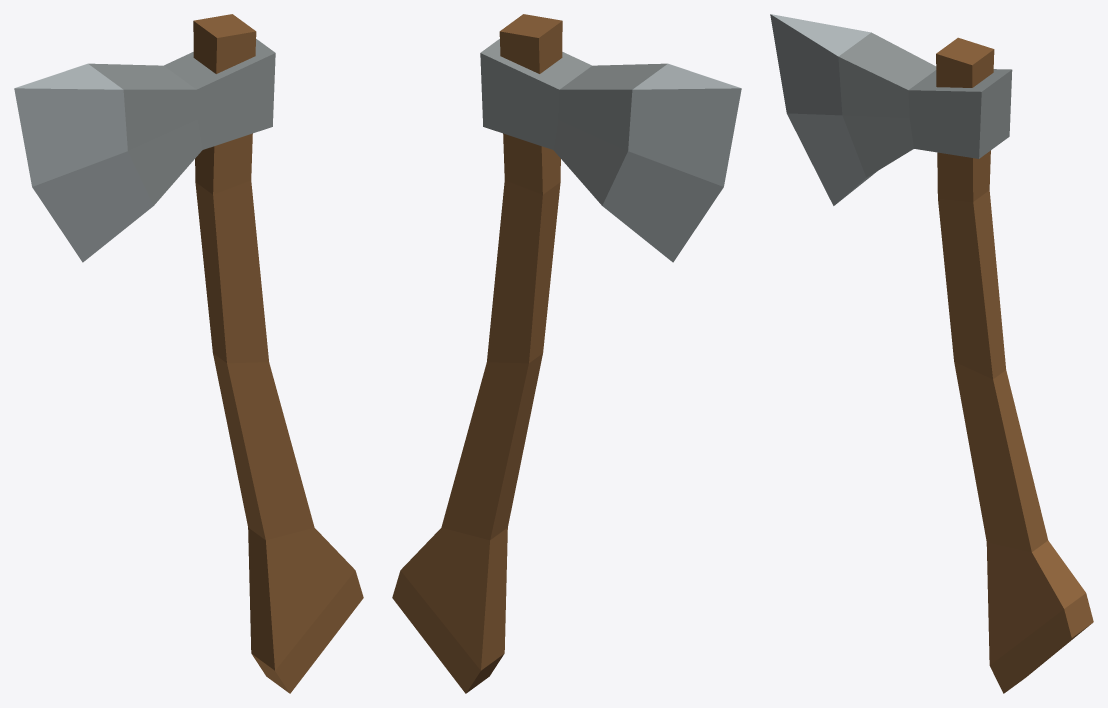
The model's file is Axe_1_Brown.fbx.
The picture shows the model from 3 angles, left to right: view 1: azimuth 30°, elevation 25°; view 2: azimuth 150°, elevation 25°; view 3: azimuth 330°, elevation 25°; orthographic projection. The views are drawn at different scales.
Parts seen in each view (by area): view 1: Axe_1_Brown_Part_3, Axe_1_Brown_Part_2, Axe_1_Brown_Part_1; view 2: Axe_1_Brown_Part_3, Axe_1_Brown_Part_2, Axe_1_Brown_Part_1; view 3: Axe_1_Brown_Part_3, Axe_1_Brown_Part_1, Axe_1_Brown_Part_2.
Boxes of the visible parts, bbox=[...] form: Axe_1_Brown_Part_3: bbox=[193, 14, 363, 693]; Axe_1_Brown_Part_2: bbox=[14, 63, 153, 262]; Axe_1_Brown_Part_1: bbox=[88, 39, 275, 205]; Axe_1_Brown_Part_3: bbox=[392, 14, 562, 693]; Axe_1_Brown_Part_2: bbox=[602, 63, 741, 262]; Axe_1_Brown_Part_1: bbox=[480, 39, 667, 205]; Axe_1_Brown_Part_3: bbox=[936, 37, 1093, 693]; Axe_1_Brown_Part_1: bbox=[838, 32, 1012, 177]; Axe_1_Brown_Part_2: bbox=[770, 14, 877, 205].
Bounding box in the file's own units: 50.11 × 95.53 × 9.17.
